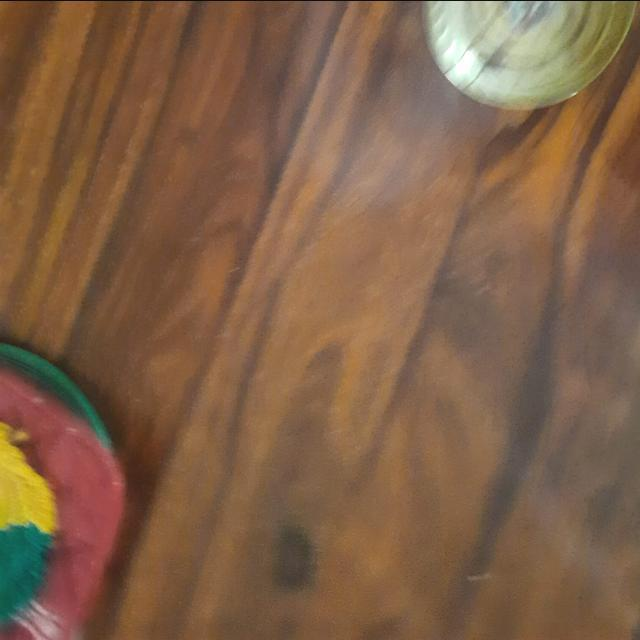fire: (242, 32, 604, 524)
